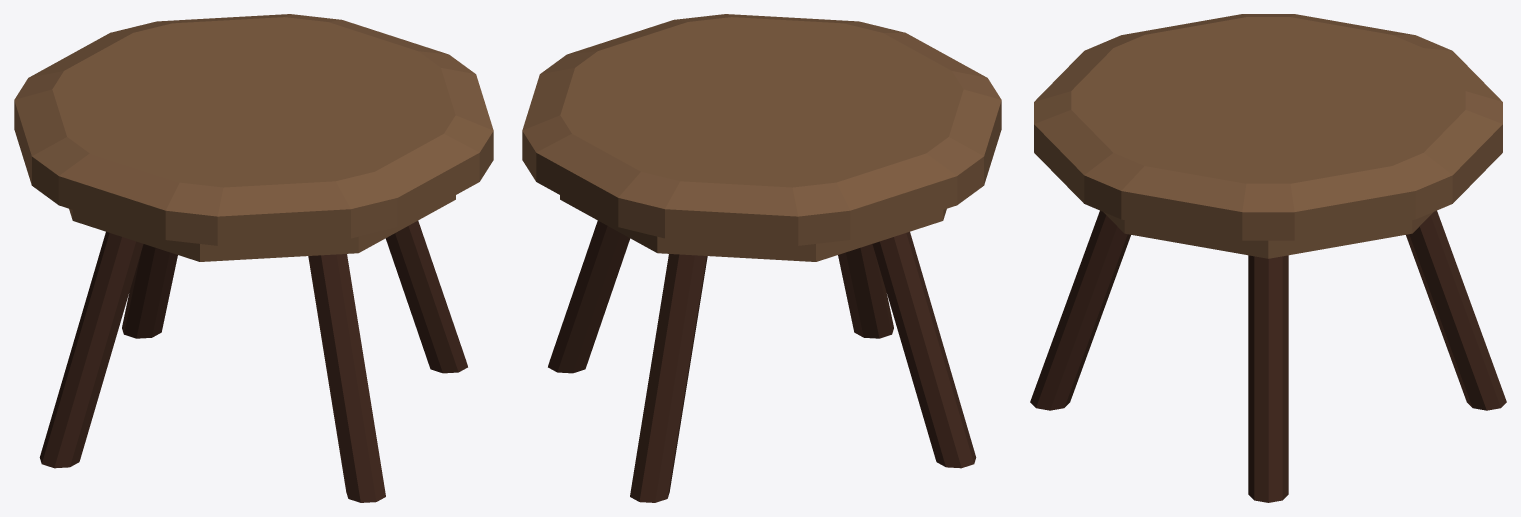
Rendered from Bench_02.glb.
3 views of the same model, side by side, from view 1: azimuth 30°, elevation 25°; view 2: azimuth 150°, elevation 25°; view 3: azimuth 270°, elevation 25° (orthographic). The views are drawn at different scales.
Visible parts, largest first — view 1: Bench_02; view 2: Bench_02; view 3: Bench_02.
Part boxes in pixels (x1,y1,x2,y2): Bench_02: (14,14,493,502); Bench_02: (522,14,1001,502); Bench_02: (1030,14,1506,502).
Size of what is drawn, in the model's own units: 0.7376 by 0.5149 by 0.7376.
1 material, 1 textured.
